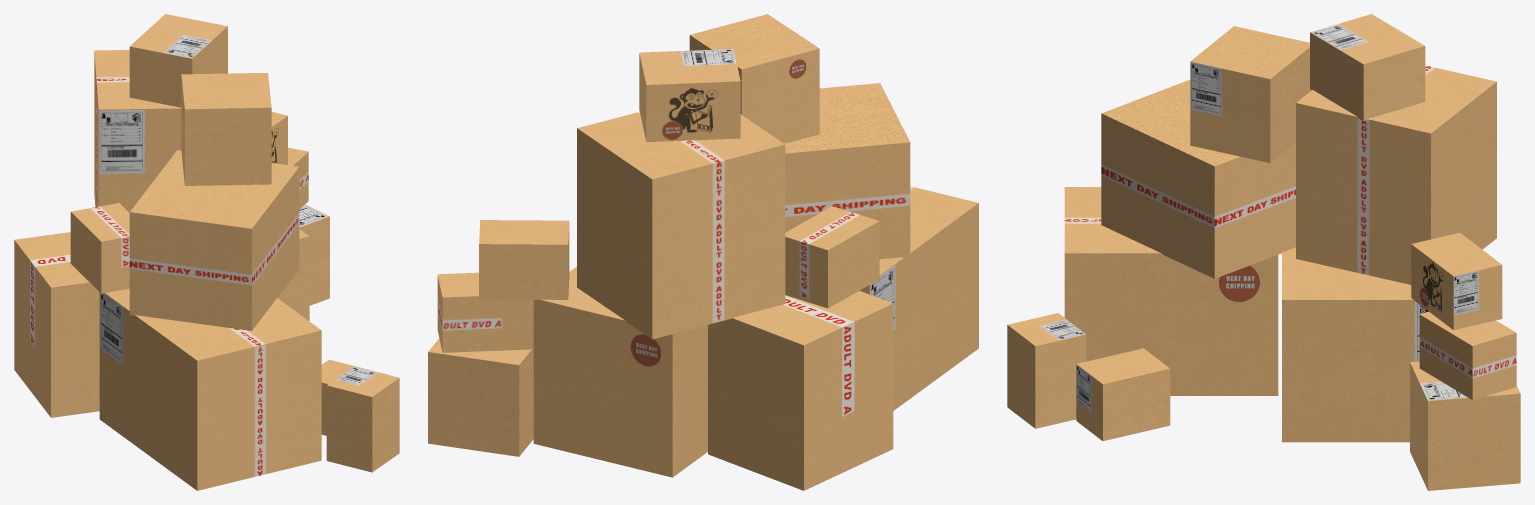
3 views of the same model, side by side, from view 1: azimuth 30°, elevation 25°; view 2: azimuth 150°, elevation 25°; view 3: azimuth 270°, elevation 25° (orthographic). The views are drawn at different scales.
Visible parts, largest first — view 1: Cube, Cube.008, Cube.002, Cube.006; view 2: Cube, Cube.002, Cube.008, Cube.006; view 3: Cube, Cube.008, Cube.002, Cube.006.
Part boxes in pixels (x1=…): Cube: x1=51, y1=14, x2=399, y2=490; Cube.008: x1=129, y1=150, x2=299, y2=330; Cube.002: x1=14, y1=152, x2=308, y2=417; Cube.006: x1=271, y1=116, x2=287, y2=164; Cube: x1=428, y1=14, x2=978, y2=490; Cube.002: x1=437, y1=206, x2=893, y2=490; Cube.008: x1=785, y1=101, x2=910, y2=259; Cube.006: x1=646, y1=81, x2=740, y2=142; Cube: x1=1007, y1=14, x2=1520, y2=490; Cube.008: x1=1101, y1=113, x2=1295, y2=278; Cube.002: x1=1419, y1=314, x2=1516, y2=399; Cube.006: x1=1411, y1=244, x2=1453, y2=329.
Bounding box in the file's own units: 5.36 × 5.01 × 6.53.
Materials: 7 (7 with a texture image).
